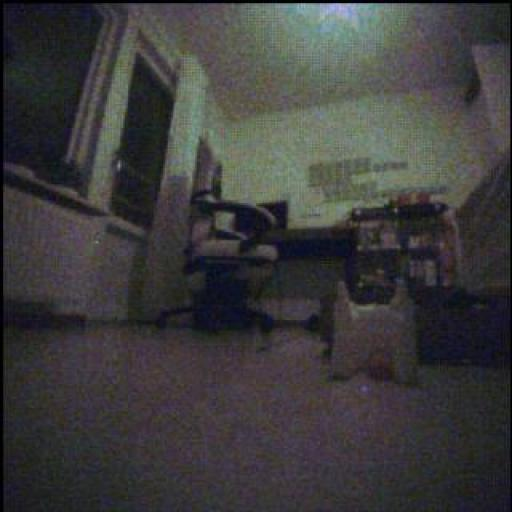basket: (366, 349, 395, 383)
